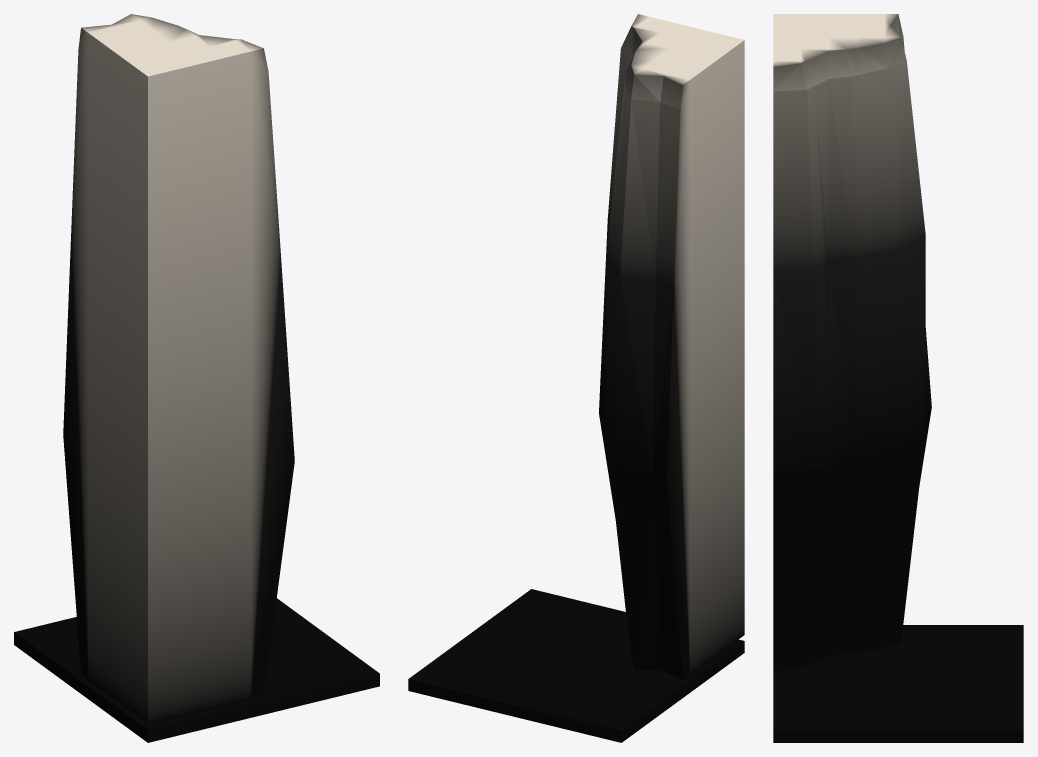
The model's file is SM_VKI_Ground_Cave_OXXX_Q01.fbx.
3 renders of one model, left to right at view 1: azimuth 30°, elevation 25°; view 2: azimuth 150°, elevation 25°; view 3: azimuth 270°, elevation 25°, orthographic. The views are drawn at different scales.
Parts seen in each view (by area): view 1: SM_VKI_Ground_Cave_OXXX_Q01.001; view 2: SM_VKI_Ground_Cave_OXXX_Q01.001; view 3: SM_VKI_Ground_Cave_OXXX_Q01.001.
Boxes of the visible parts, x1=… form: SM_VKI_Ground_Cave_OXXX_Q01.001: x1=14, y1=14, x2=379, y2=742; SM_VKI_Ground_Cave_OXXX_Q01.001: x1=408, y1=14, x2=744, y2=742; SM_VKI_Ground_Cave_OXXX_Q01.001: x1=773, y1=14, x2=1023, y2=742.
Size of the model in its own units: 1.5 by 4.12 by 1.5.
